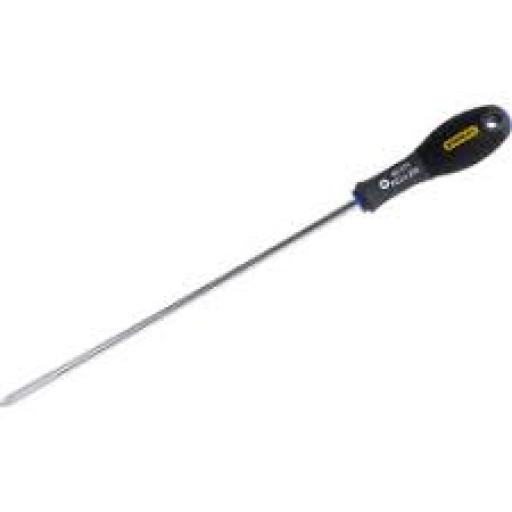screwdriver: (3, 104, 509, 404)
